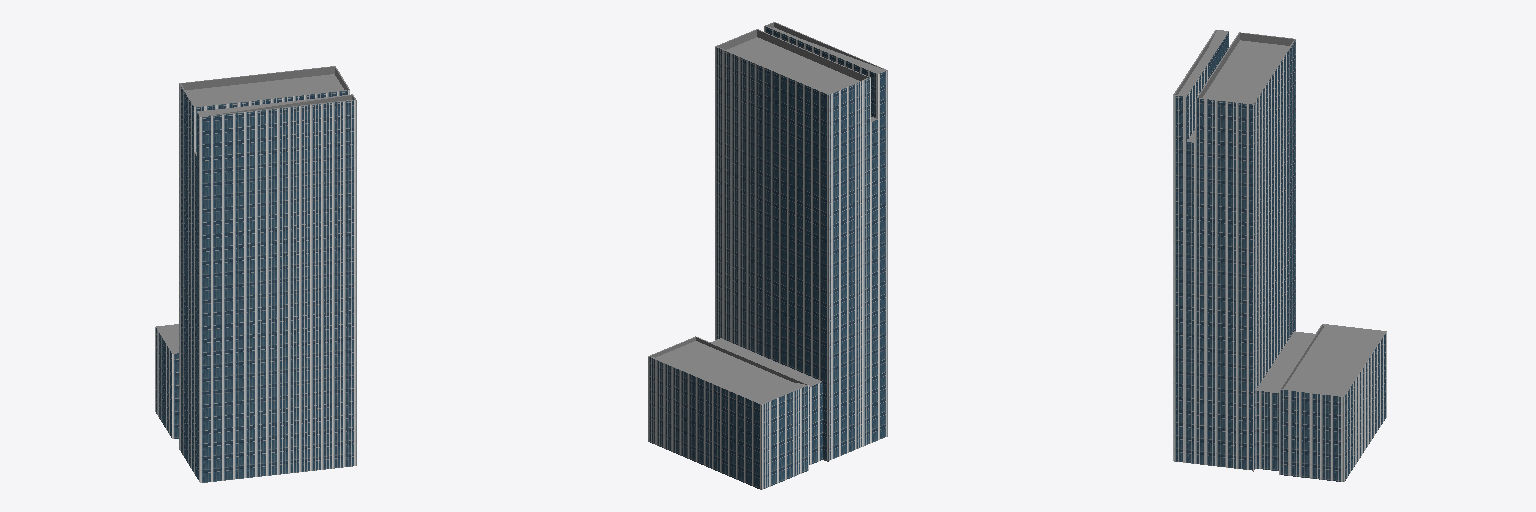
3 renders of one model, left to right at view 1: azimuth 30°, elevation 25°; view 2: azimuth 150°, elevation 25°; view 3: azimuth 270°, elevation 25°, orthographic.
Parts seen in each view (by area): view 1: JZ_JX_01; view 2: JZ_JX_01; view 3: JZ_JX_01.
Boxes of the visible parts, box(x1,y1,x2,y2) form: JZ_JX_01: box(155, 66, 356, 482); JZ_JX_01: box(648, 22, 887, 489); JZ_JX_01: box(1173, 30, 1386, 481).
Bounding box in the file's own units: 7534 × 15050 × 7952.
Materials: 2 (1 with a texture image).